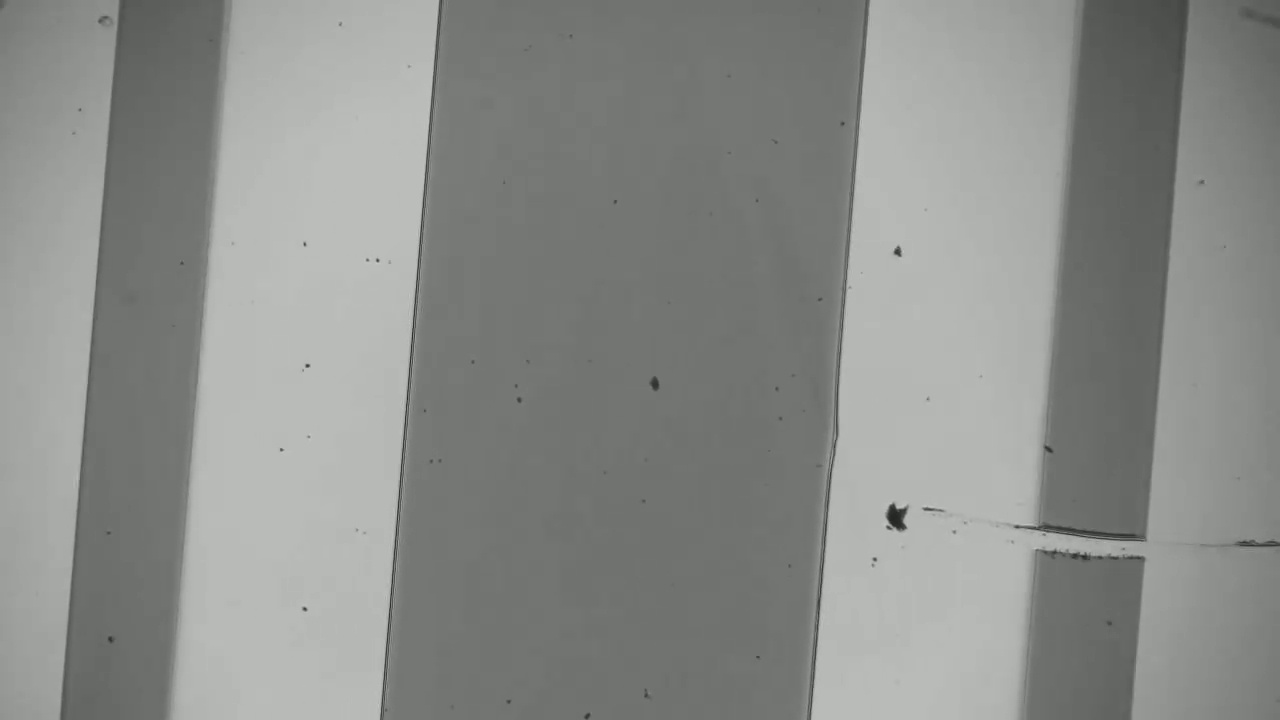Short_circuit: (1005, 508, 1166, 584)
